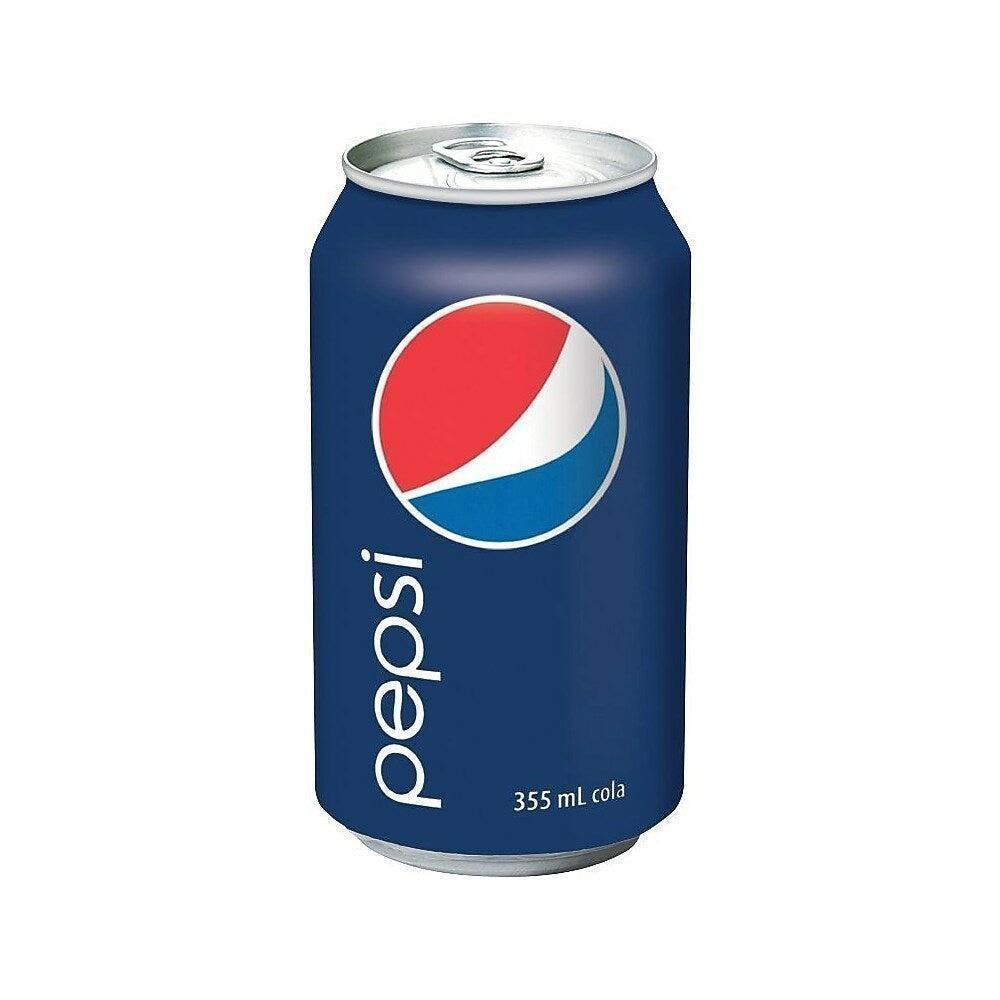tin can: (312, 127, 695, 879)
